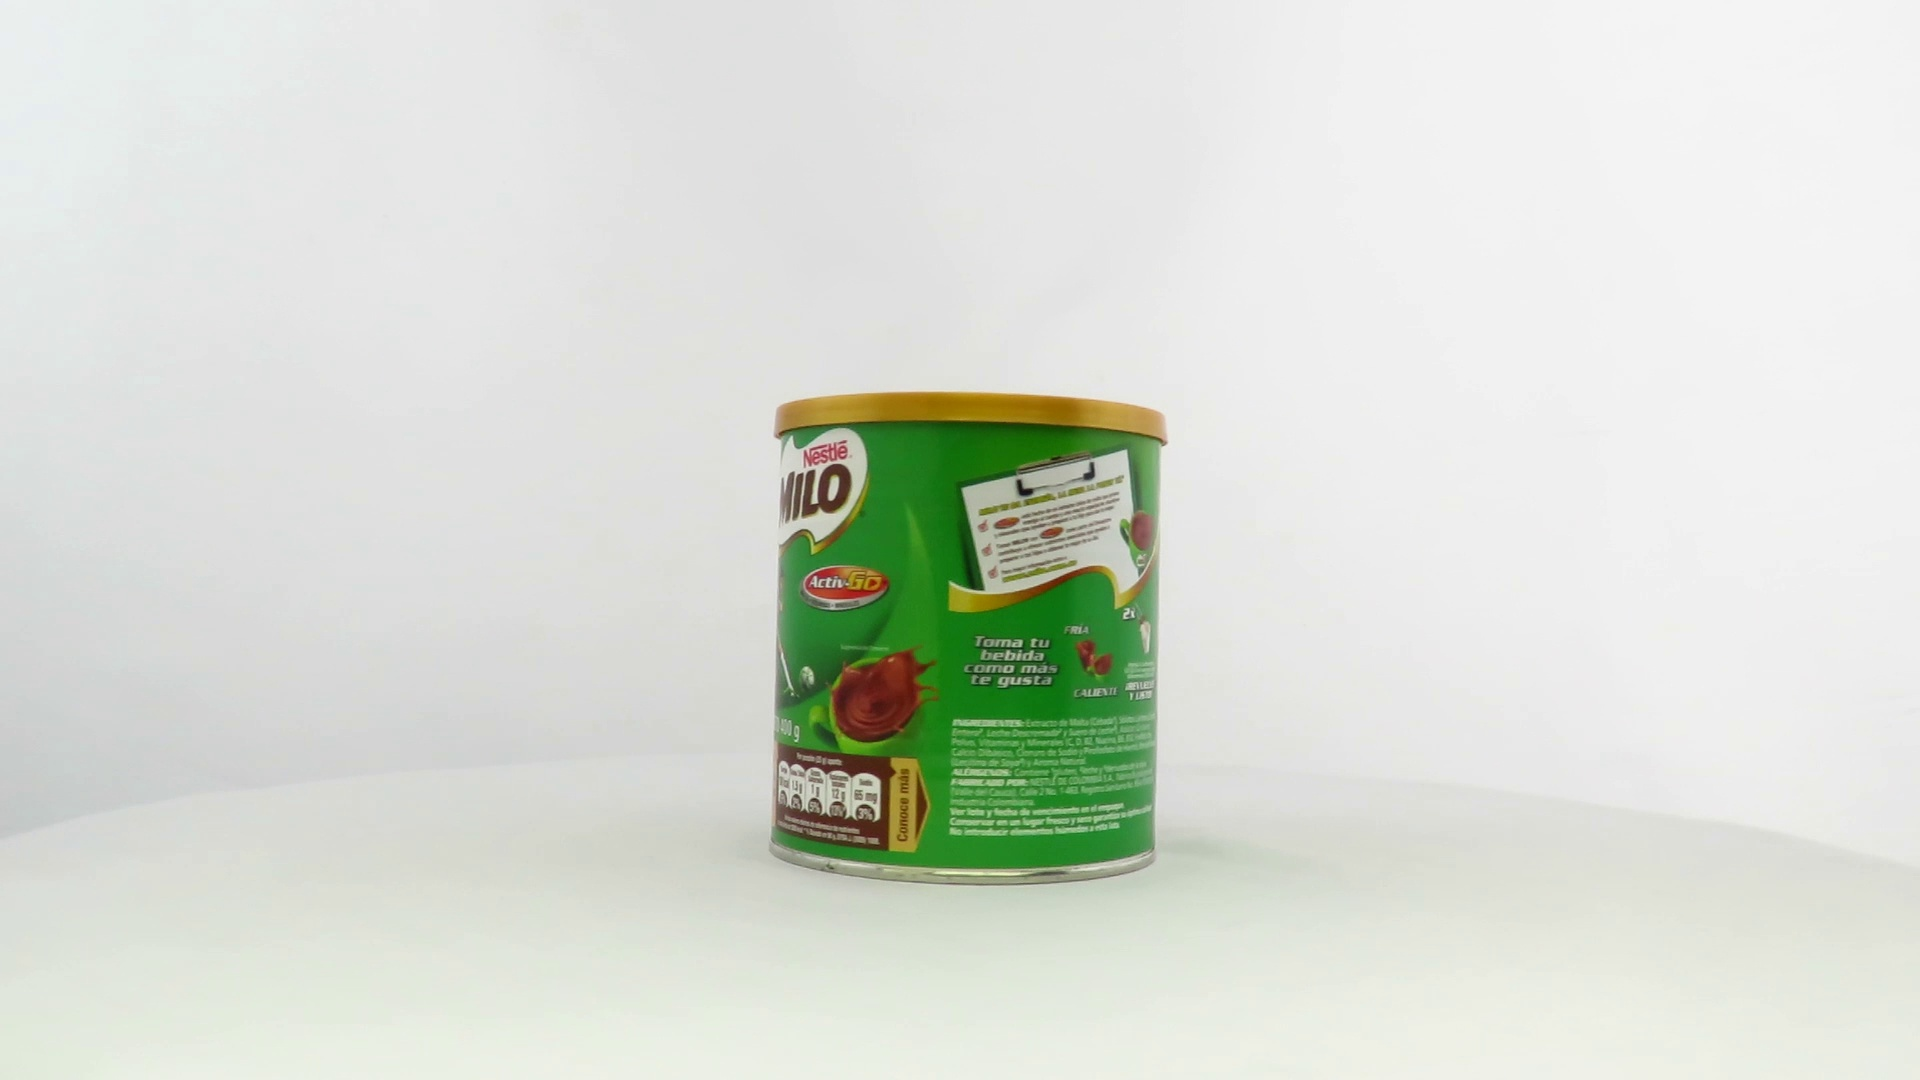COL0170203LAT40000: (764, 386, 1174, 891)
